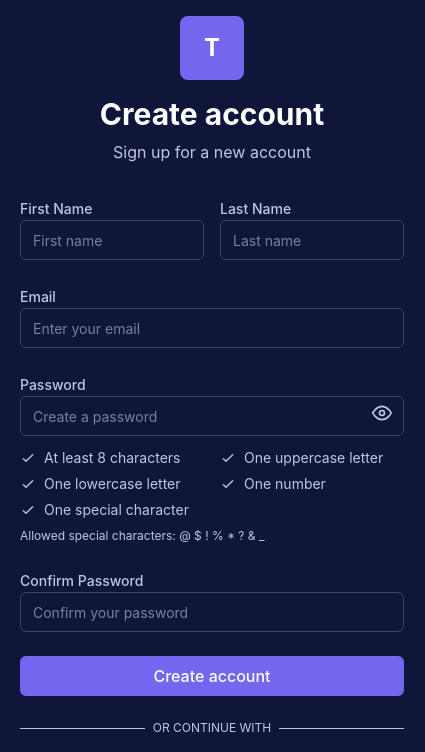
Test: RegisterPage › validates password mismatch
In the field with placeholder "First name": (112,240) [20,220,204,260], type "John"
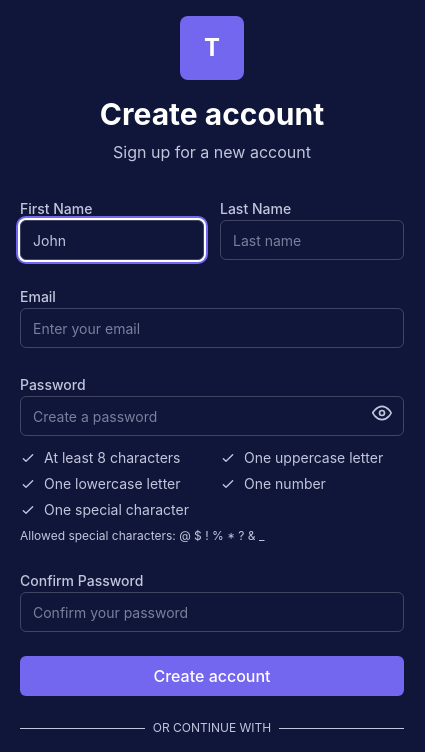
In the field with placeholder "Last name": (312,240) [220,220,404,260], type "Doe"
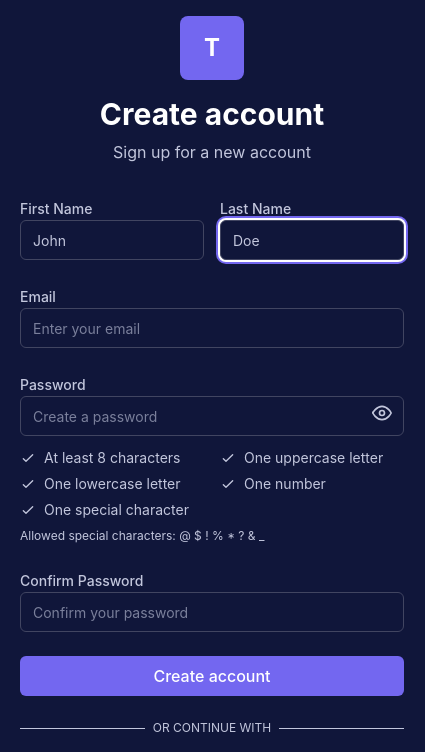
In the field with placeholder "Enter your email": (212,328) [20,308,404,348], type "test@example.com"
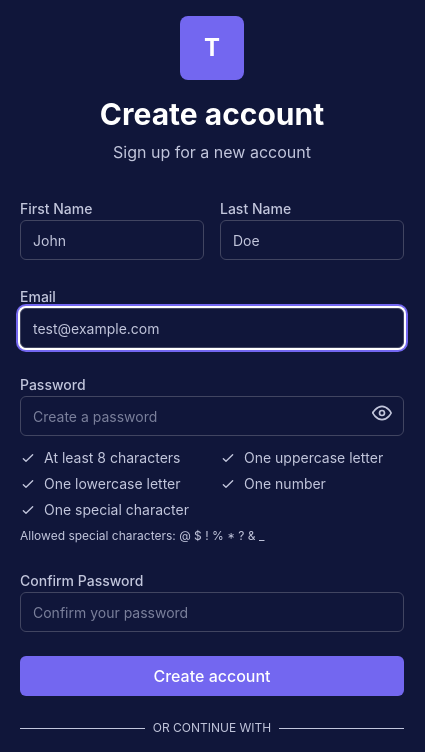
In the password field with placeholder "Create a password": (212,416) [20,396,404,436], type "password"
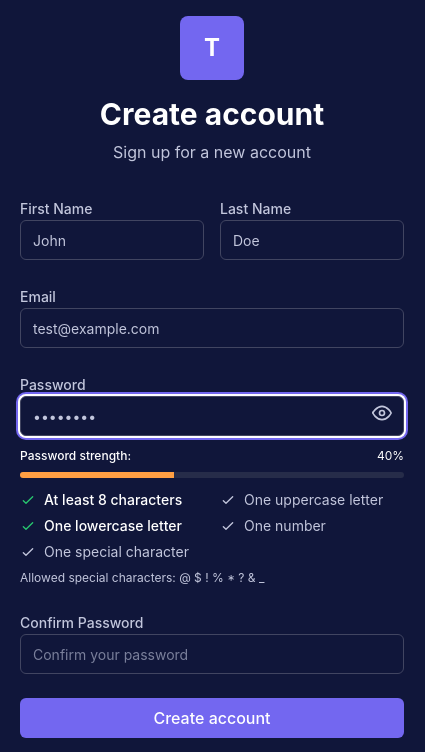
In the password field with placeholder "Confirm your password": (212,654) [20,634,404,674], type "mismatch"
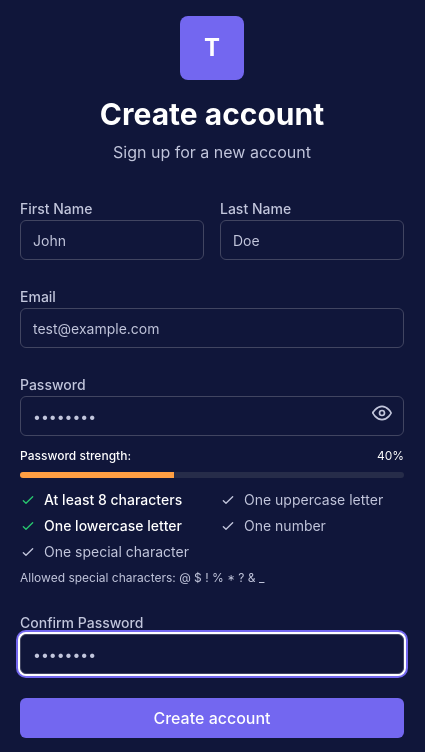
Click the button "Create account": (212,718) [20,698,404,738]
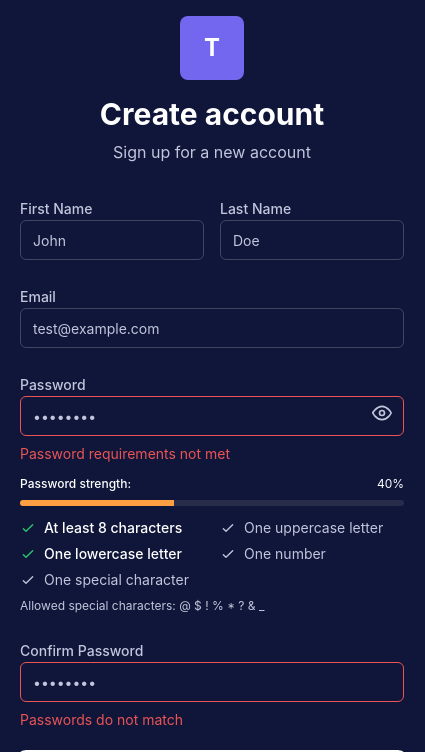
Expected: the text "Passwords do not match" is shown, [20,711,183,728]
